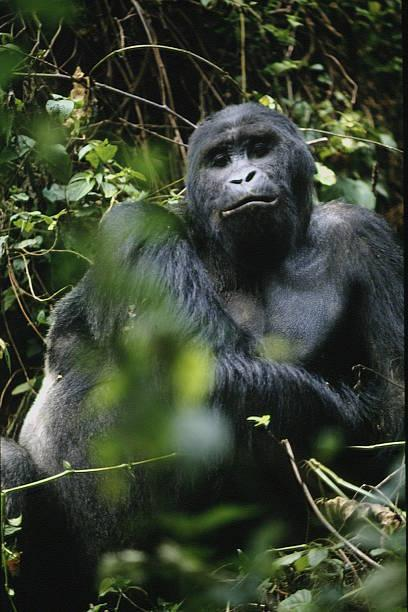goriile_montagne: (51, 101, 408, 574)
